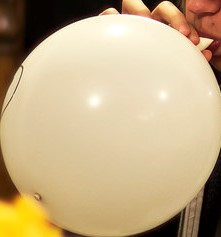Balloon: (1, 14, 221, 237)
